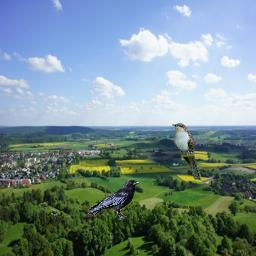Crow: (86, 178, 141, 220)
Cuckoo: (172, 123, 203, 184)
